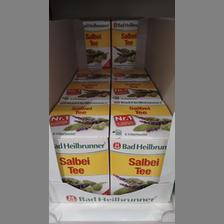Tee: (109, 104, 171, 198), (48, 105, 108, 200), (110, 20, 138, 68), (82, 18, 110, 66)
